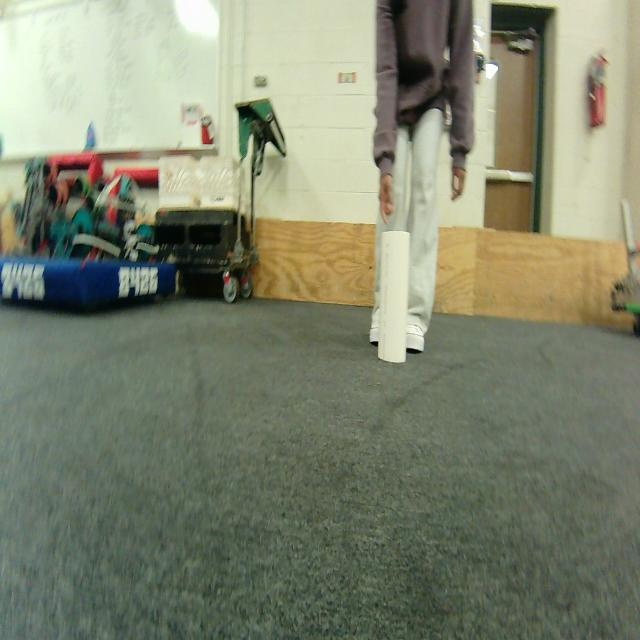coral: (369, 229, 420, 363)
